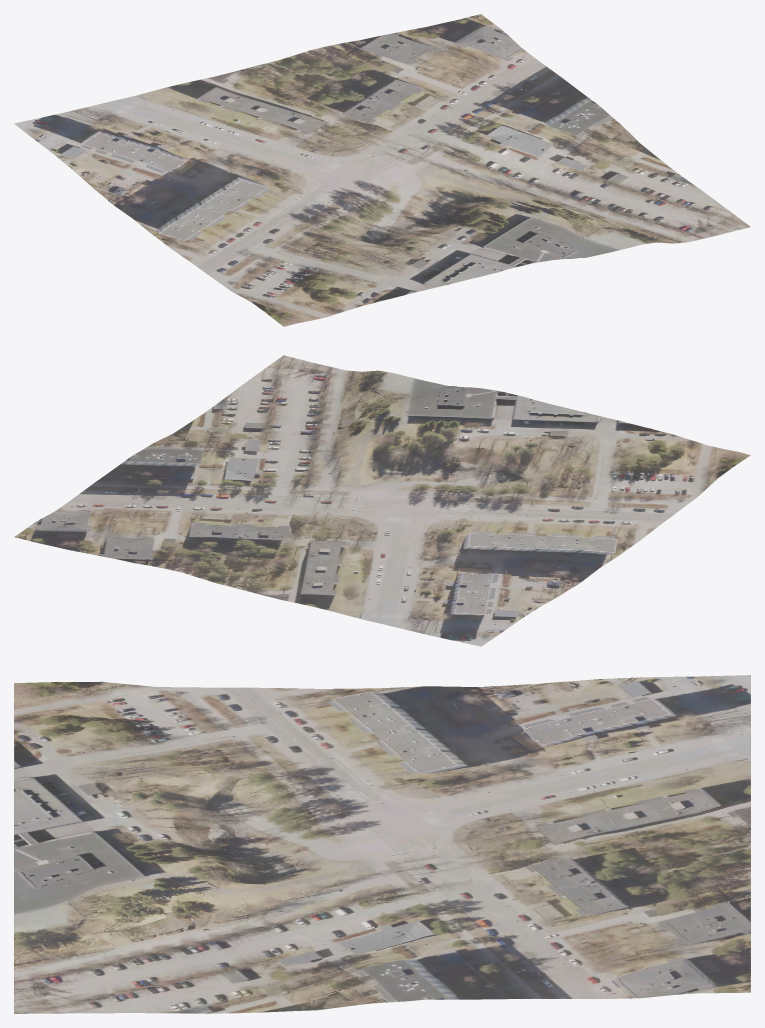
File: CM_Terrain_24491278_6815698.fbx
The picture shows the model from 3 angles, top to bottom: view 1: azimuth 30°, elevation 25°; view 2: azimuth 150°, elevation 25°; view 3: azimuth 270°, elevation 25°; orthographic projection. The views are drawn at different scales.
Parts seen in each view (by area): view 1: CM_Terrain_24491278_6815698_LOD0; view 2: CM_Terrain_24491278_6815698_LOD0; view 3: CM_Terrain_24491278_6815698_LOD0.
Boxes of the visible parts, bbox=[...] form: CM_Terrain_24491278_6815698_LOD0: bbox=[14, 14, 750, 326]; CM_Terrain_24491278_6815698_LOD0: bbox=[14, 355, 750, 646]; CM_Terrain_24491278_6815698_LOD0: bbox=[14, 675, 750, 1013].
Size of what is drawn, in the model's own units: 205 by 8.95 by 205.
